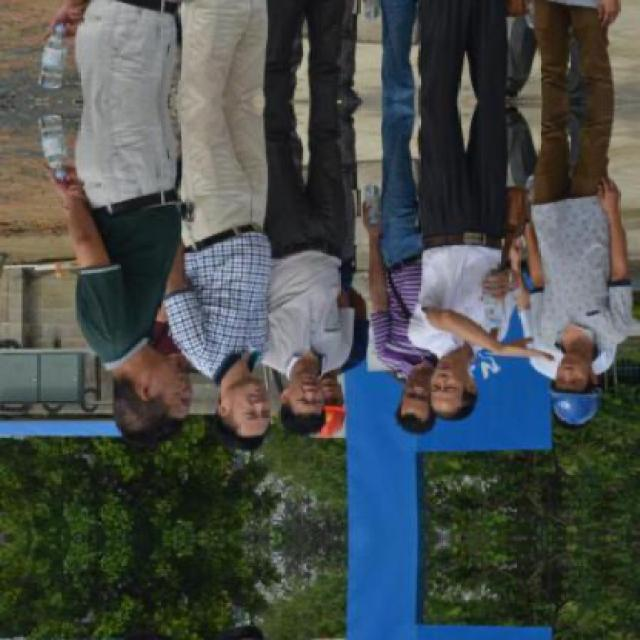con casco: (496, 362, 606, 429), (305, 368, 349, 446)
sin casco: (97, 324, 216, 444), (414, 344, 463, 441), (226, 364, 277, 440), (385, 363, 434, 433)
